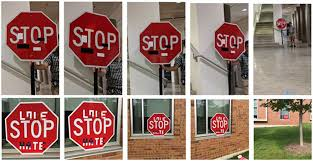stop sign: (5, 101, 58, 158), (68, 12, 119, 69), (6, 9, 58, 63), (66, 101, 115, 151), (137, 18, 183, 67), (212, 23, 245, 59), (144, 112, 169, 140), (209, 112, 229, 133), (275, 17, 288, 29)
